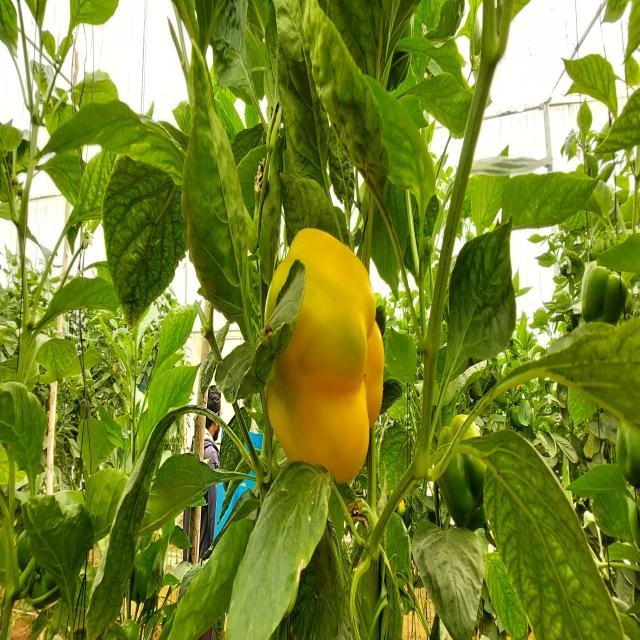Yellow-Ready-to-Harvest: (270, 224, 387, 480)
